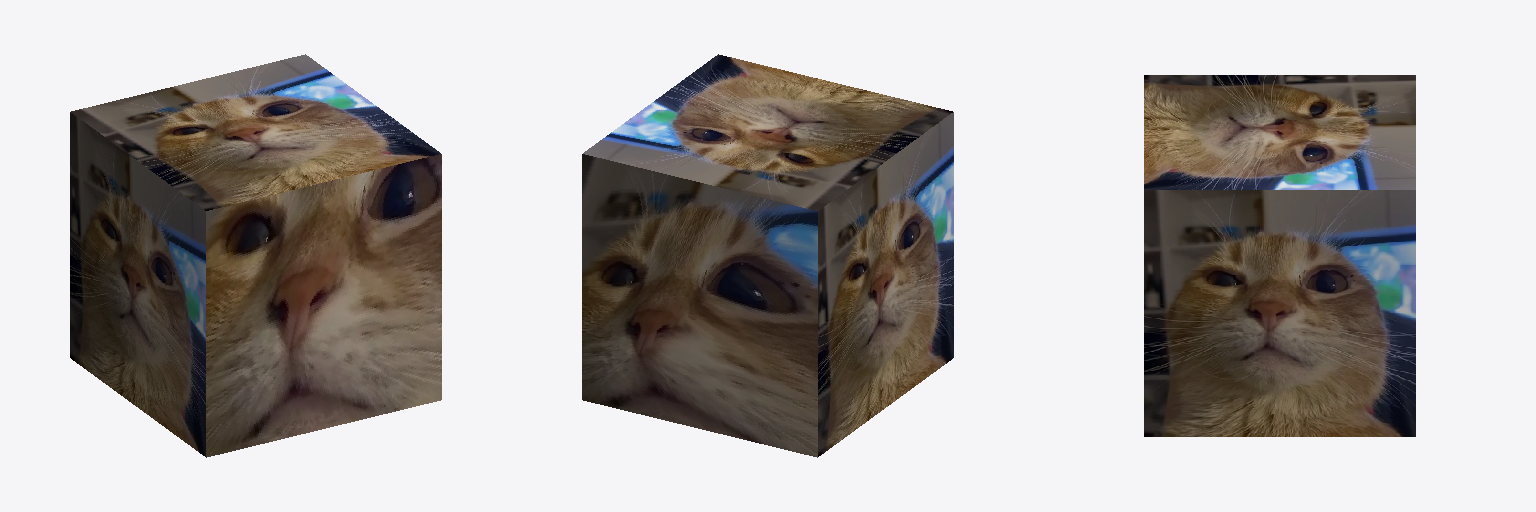
3 views of the same model, side by side, from view 1: azimuth 30°, elevation 25°; view 2: azimuth 150°, elevation 25°; view 3: azimuth 270°, elevation 25° (orthographic).
Parts seen in each view (by area): view 1: Cube; view 2: Cube; view 3: Cube.
Part boxes in pixels (x1,y1,x2,y2): Cube: (70,54,441,457); Cube: (582,54,953,457); Cube: (1144,75,1415,436).
Bounding box in the file's own units: 1 × 1 × 1.
1 materials, 1 textured.